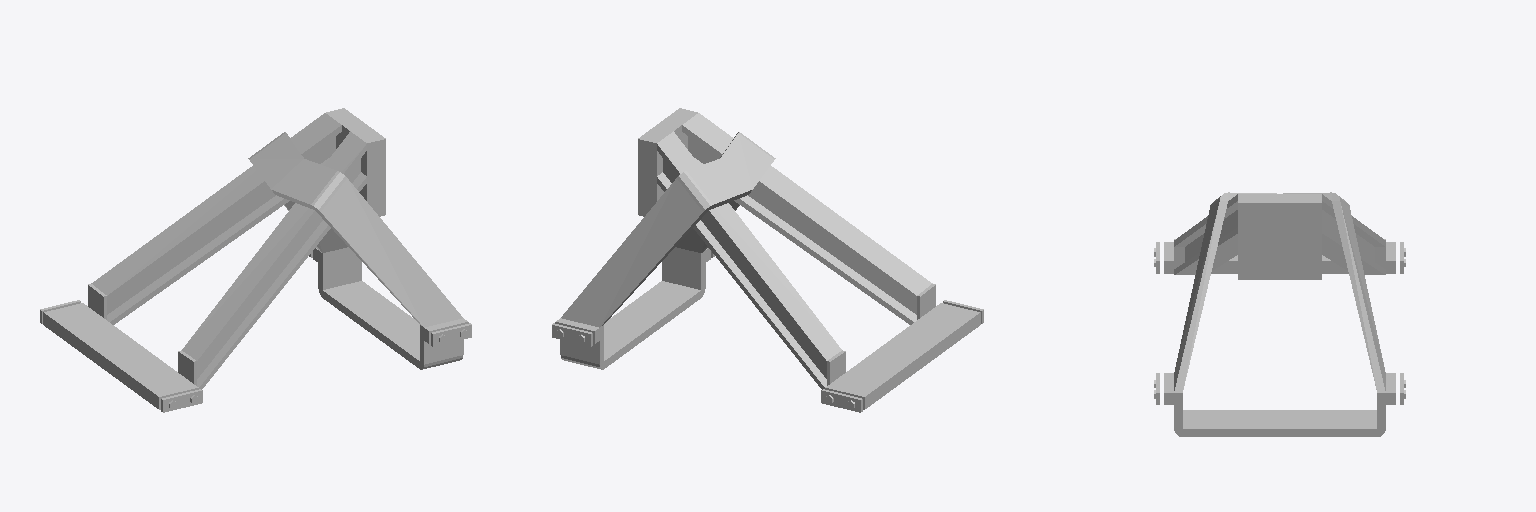
The model's file is us_a_frame.obj.
3 renders of one model, left to right at view 1: azimuth 30°, elevation 25°; view 2: azimuth 150°, elevation 25°; view 3: azimuth 270°, elevation 25°, orthographic.
Parts seen in each view (by area): view 1: BUFFER_STOP_Cube.002; view 2: BUFFER_STOP_Cube.002; view 3: BUFFER_STOP_Cube.002.
Boxes of the visible parts, box(x1,y1,x2,y2) form: BUFFER_STOP_Cube.002: box(40, 108, 471, 412); BUFFER_STOP_Cube.002: box(552, 108, 983, 412); BUFFER_STOP_Cube.002: box(1154, 192, 1405, 436).
Bounding box in the file's own units: 2.29 × 1.5 × 1.62.